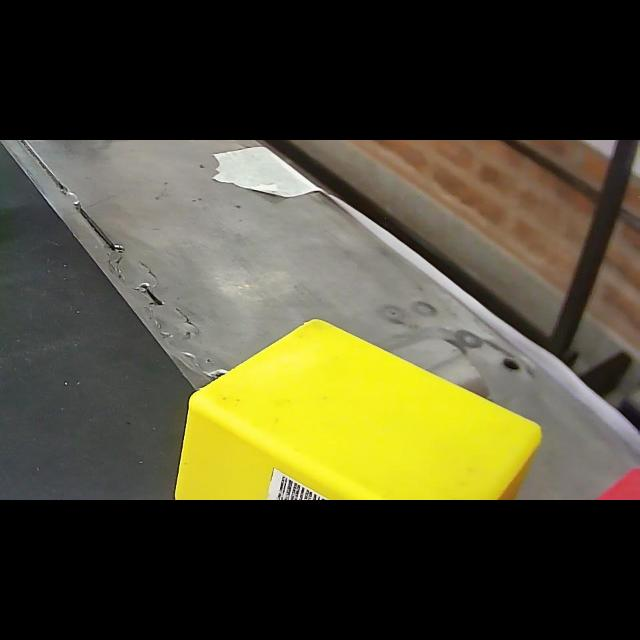greenBox: (0, 140, 4, 270)
yellowBox: (163, 312, 547, 500)
